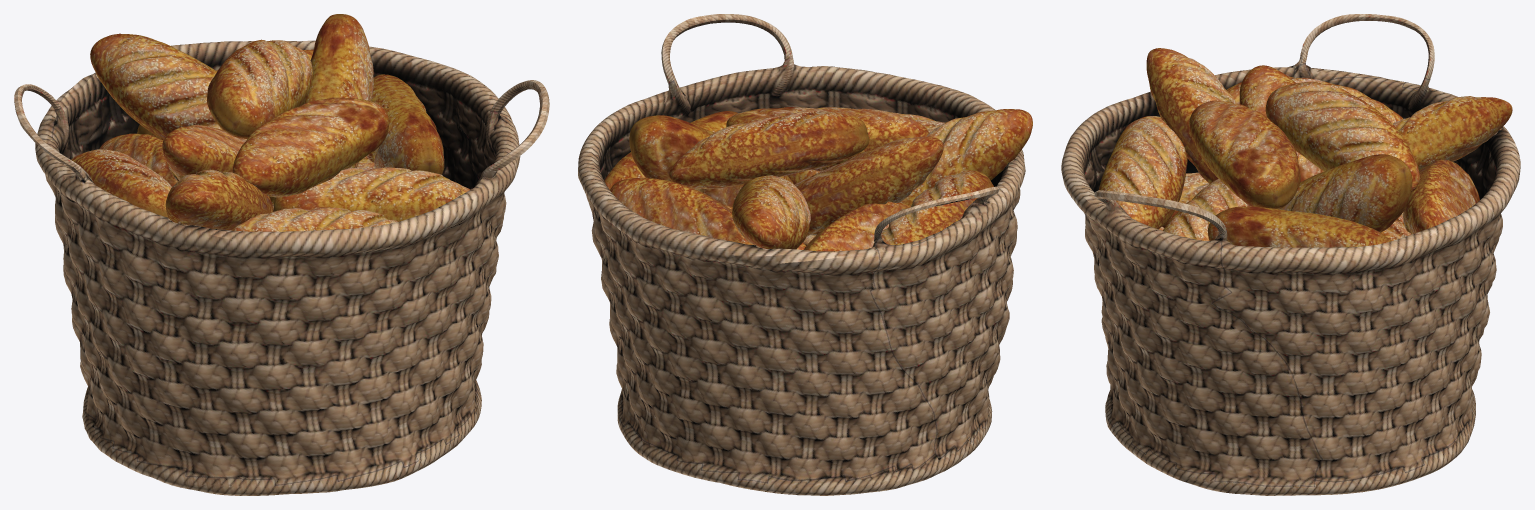
The model's file is obj_bread_in_basket_be0b7e.glb.
3 views of the same model, side by side, from view 1: azimuth 30°, elevation 25°; view 2: azimuth 150°, elevation 25°; view 3: azimuth 270°, elevation 25° (orthographic). The views are drawn at different scales.
Visible parts, largest first — view 1: obj_bread_in_basket_be0b7e; view 2: obj_bread_in_basket_be0b7e; view 3: obj_bread_in_basket_be0b7e.
Part boxes in pixels (bbox=[...]): obj_bread_in_basket_be0b7e: bbox=[14, 14, 549, 495]; obj_bread_in_basket_be0b7e: bbox=[578, 14, 1032, 495]; obj_bread_in_basket_be0b7e: bbox=[1061, 14, 1520, 495].
Bounding box in the file's own units: 0.4 × 0.3059 × 0.3883.
2 materials, 2 textured.
